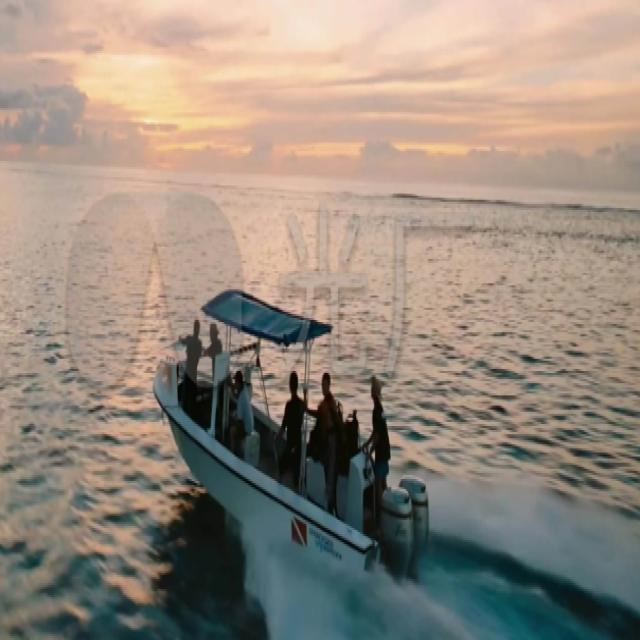houseboat: (155, 282, 413, 576)
